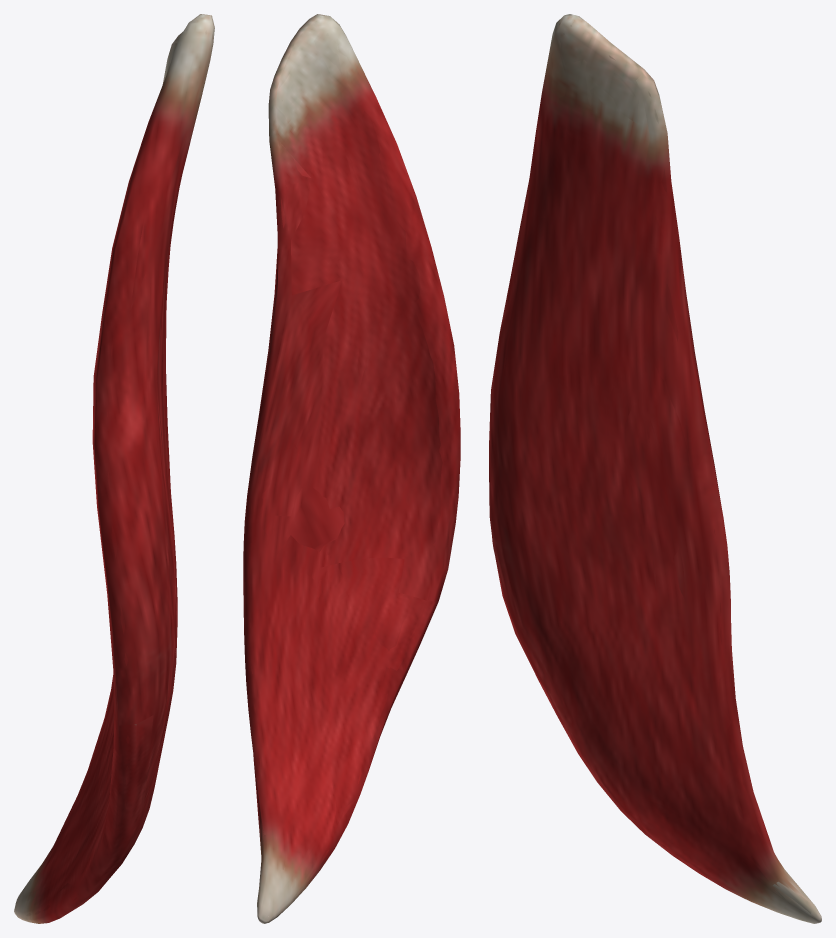
File: R Sartorius.fbx
3 renders of one model, left to right at view 1: azimuth 30°, elevation 25°; view 2: azimuth 150°, elevation 25°; view 3: azimuth 270°, elevation 25°, orthographic. The views are drawn at different scales.
Visible parts, largest first — view 1: R Sartorius, R Sartorius low, R Sartorius high; view 2: R Sartorius high, R Sartorius low, R Sartorius; view 3: R Sartorius, R Sartorius low, R Sartorius high.
Part boxes in pixels (bbox=[...]): R Sartorius: bbox=[14, 14, 214, 923]; R Sartorius low: bbox=[18, 14, 212, 923]; R Sartorius high: bbox=[14, 18, 212, 921]; R Sartorius high: bbox=[249, 18, 455, 922]; R Sartorius low: bbox=[243, 14, 459, 922]; R Sartorius: bbox=[243, 14, 460, 923]; R Sartorius: bbox=[489, 14, 821, 923]; R Sartorius low: bbox=[489, 16, 820, 914]; R Sartorius high: bbox=[493, 22, 815, 915].
Bounding box in the file's own units: 2.49 × 15.03 × 4.84.
